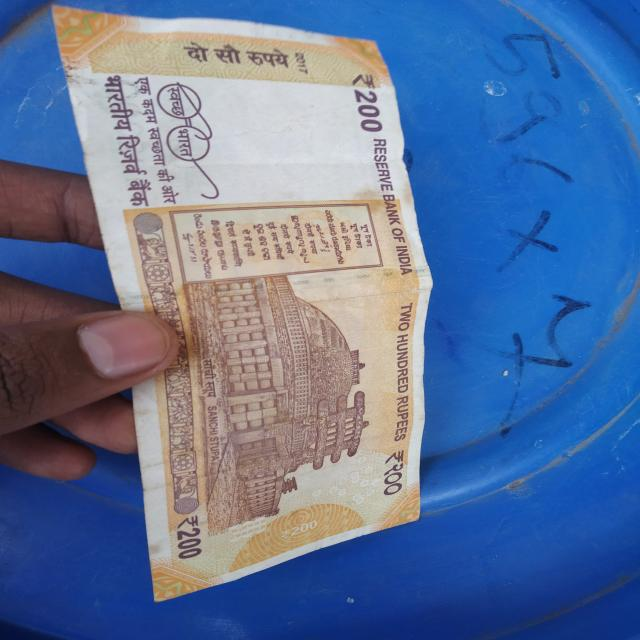200rs: (45, 5, 442, 600)
